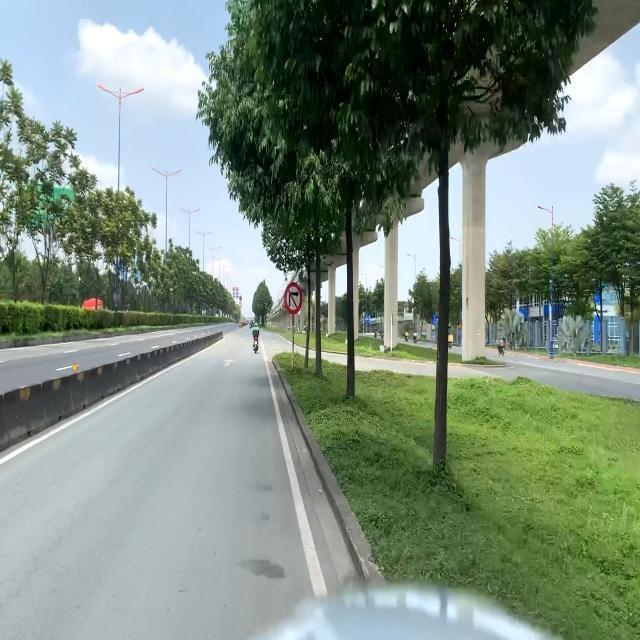123b-cam-re-phai: (284, 282, 304, 314)
